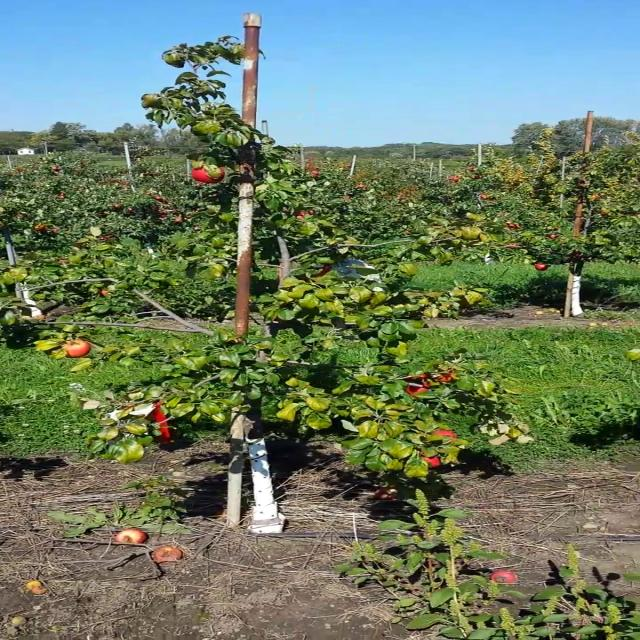apple: (56, 337, 92, 357), (191, 167, 227, 184), (428, 368, 458, 383), (406, 382, 430, 396), (401, 374, 427, 384), (420, 456, 441, 468), (312, 265, 332, 277), (433, 429, 457, 439)
